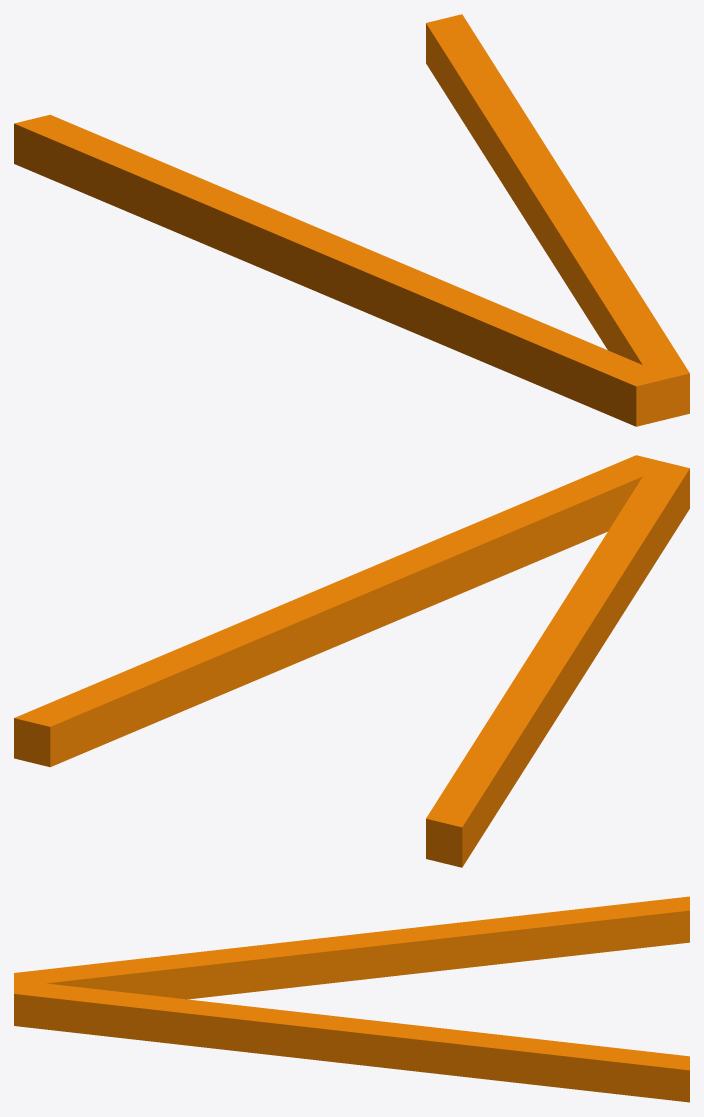
File: 2023_hvac_stage_frame1.obj
3 views of the same model, one above another, from view 1: azimuth 30°, elevation 25°; view 2: azimuth 150°, elevation 25°; view 3: azimuth 270°, elevation 25° (orthographic). The views are drawn at different scales.
Parts seen in each view (by area): view 1: mesh1; view 2: mesh1; view 3: mesh1.
Boxes of the visible parts, x1,y1,x2,y2 form: mesh1: [14, 14, 689, 426]; mesh1: [14, 455, 689, 867]; mesh1: [14, 896, 689, 1102].
Size of the model in its own units: 1.28 by 0.11 by 2.1.
